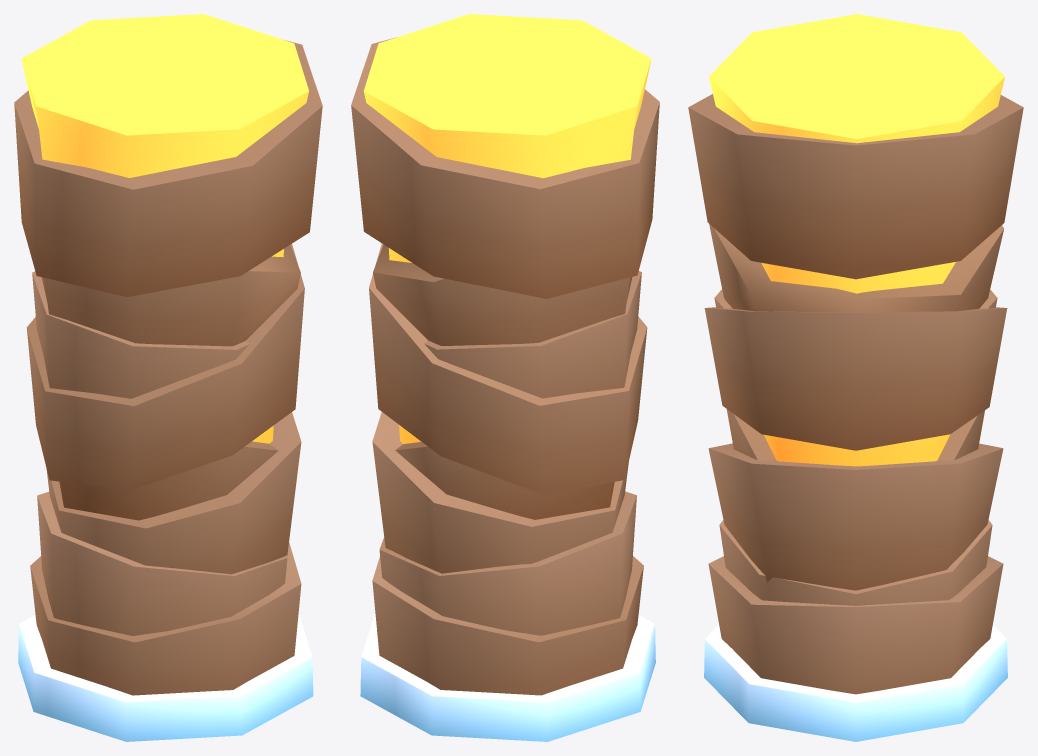
The model's file is gold_and_steel_grip_065.glb.
The picture shows the model from 3 angles, left to right: view 1: azimuth 30°, elevation 25°; view 2: azimuth 150°, elevation 25°; view 3: azimuth 270°, elevation 25°; orthographic projection.
Visible parts, largest first — view 1: gold_and_steel_grip_065; view 2: gold_and_steel_grip_065; view 3: gold_and_steel_grip_065.
Boxes of the visible parts, x1,y1,x2,y2 form: gold_and_steel_grip_065: (14,14,322,741); gold_and_steel_grip_065: (351,14,659,741); gold_and_steel_grip_065: (688,14,1023,741).
Size of the model in its own units: 1.52 by 3.26 by 1.65.
1 material, 1 textured.
